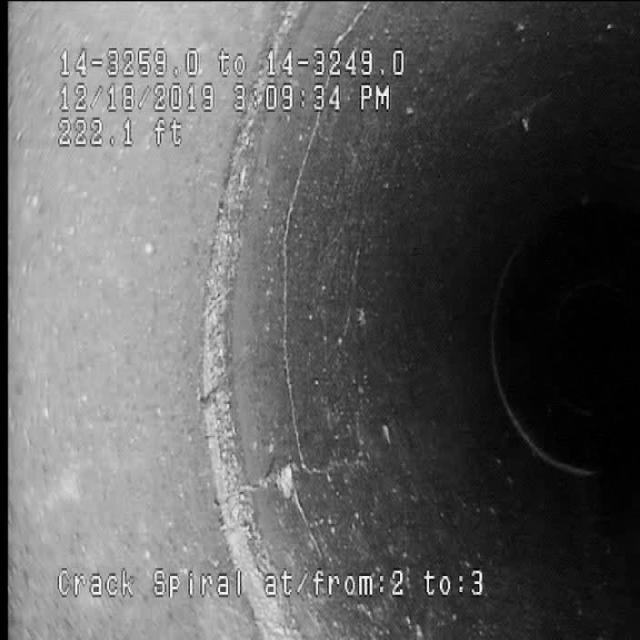Crack: (258, 148, 336, 489)
